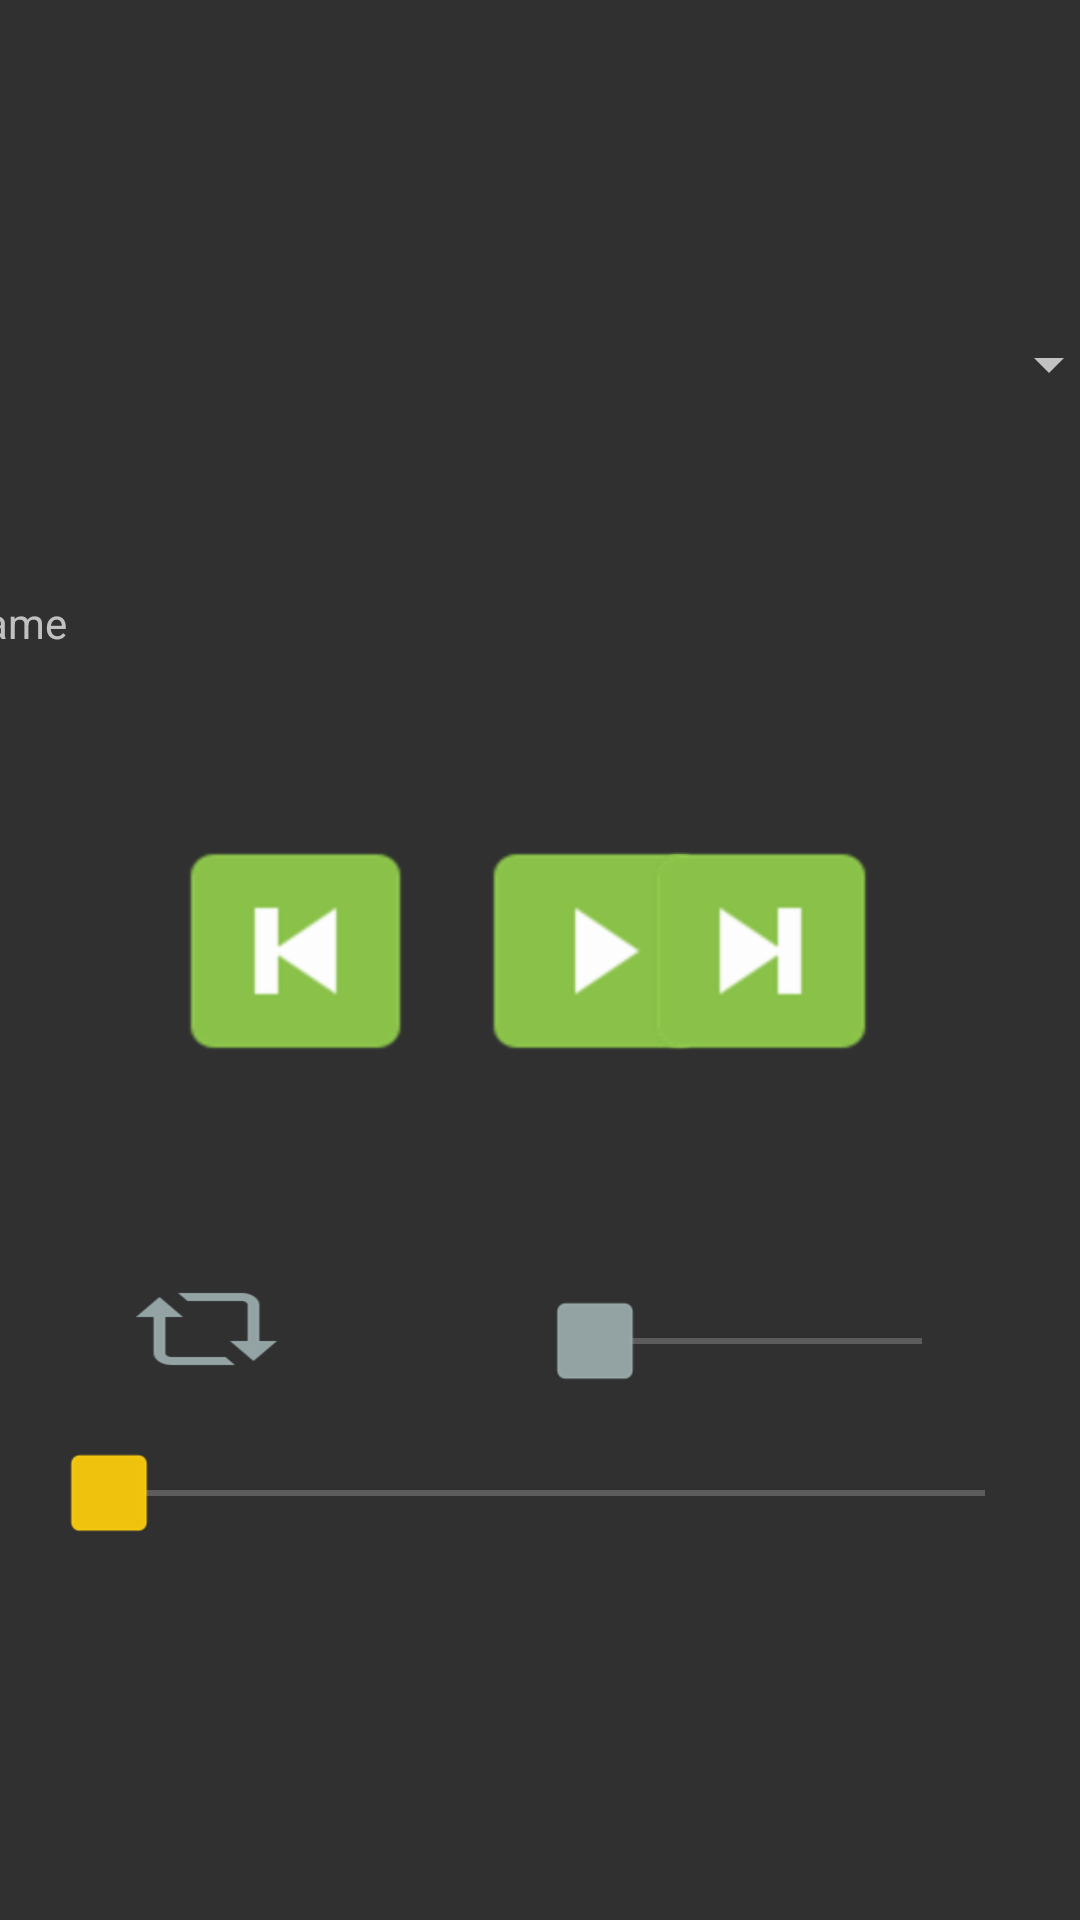

Icon click points for this 1080 x 1920 phone screenshot, format point (x, y):
next: point (743, 951)
previous: point (295, 951)
